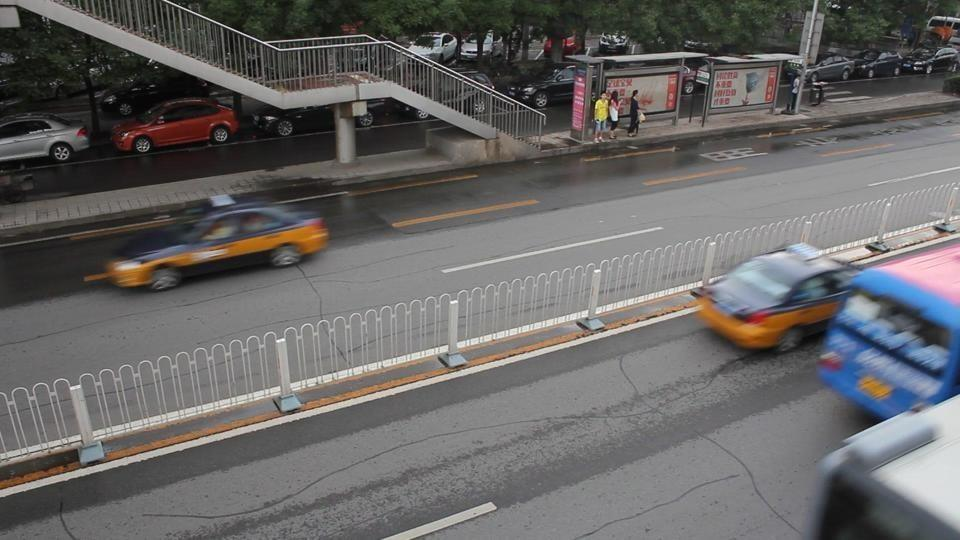car: (815, 238, 960, 424), (83, 198, 329, 294), (803, 394, 959, 535), (688, 238, 873, 351), (110, 96, 240, 154), (0, 114, 91, 165), (98, 76, 209, 117), (498, 64, 582, 109), (406, 32, 460, 65), (847, 52, 903, 80), (801, 55, 855, 82), (925, 47, 960, 74), (898, 51, 934, 74), (597, 32, 632, 55)
